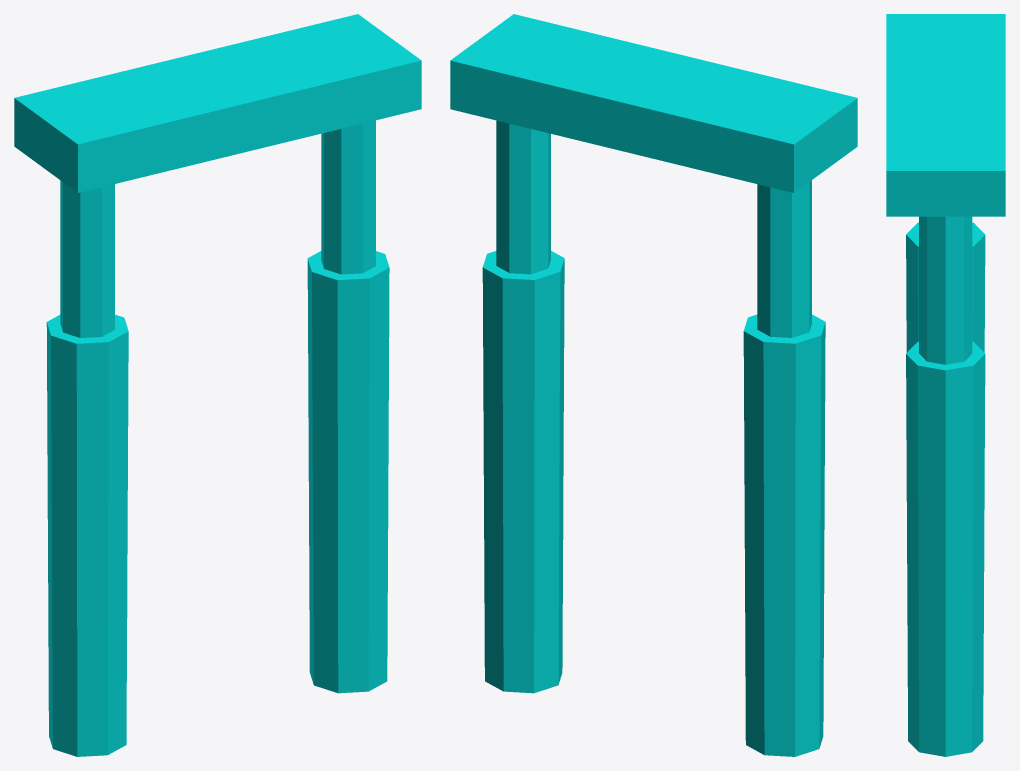
Rendered from SM_Env_Road_Highway_Pillar_01_Collision.fbx.
The picture shows the model from 3 angles, left to right: view 1: azimuth 30°, elevation 25°; view 2: azimuth 150°, elevation 25°; view 3: azimuth 270°, elevation 25°; orthographic projection. The views are drawn at different scales.
Visible parts, largest first — view 1: SM_Env_Road_Highway_Pillar_01_Collision; view 2: SM_Env_Road_Highway_Pillar_01_Collision; view 3: SM_Env_Road_Highway_Pillar_01_Collision.
Part boxes in pixels (x1=…): SM_Env_Road_Highway_Pillar_01_Collision: x1=14, y1=14, x2=421, y2=756; SM_Env_Road_Highway_Pillar_01_Collision: x1=450, y1=14, x2=857, y2=756; SM_Env_Road_Highway_Pillar_01_Collision: x1=886, y1=14, x2=1005, y2=756.
Bounding box in the file's own units: 868 × 1518 × 278.
